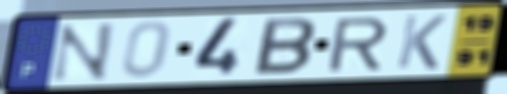0: (117, 19, 175, 82)
4: (191, 15, 248, 81)
B: (250, 16, 319, 77)
K: (393, 13, 450, 71)
N: (47, 21, 118, 84)
R: (324, 15, 392, 74)
